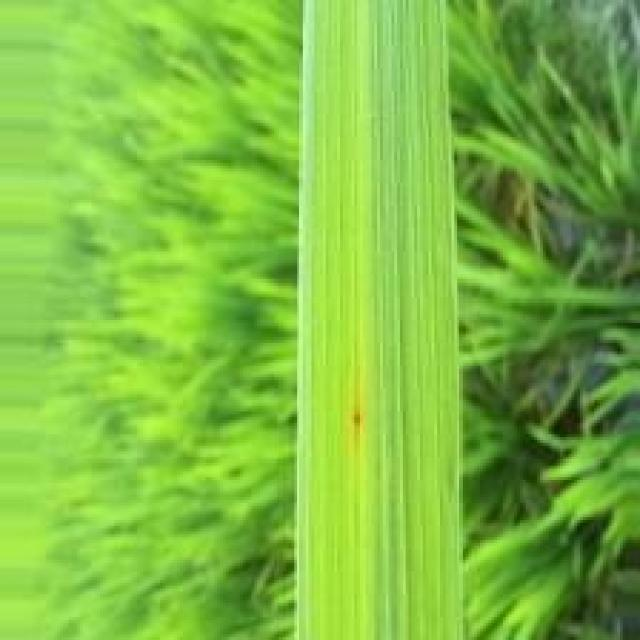Brown_Spot: (352, 408, 362, 428)
